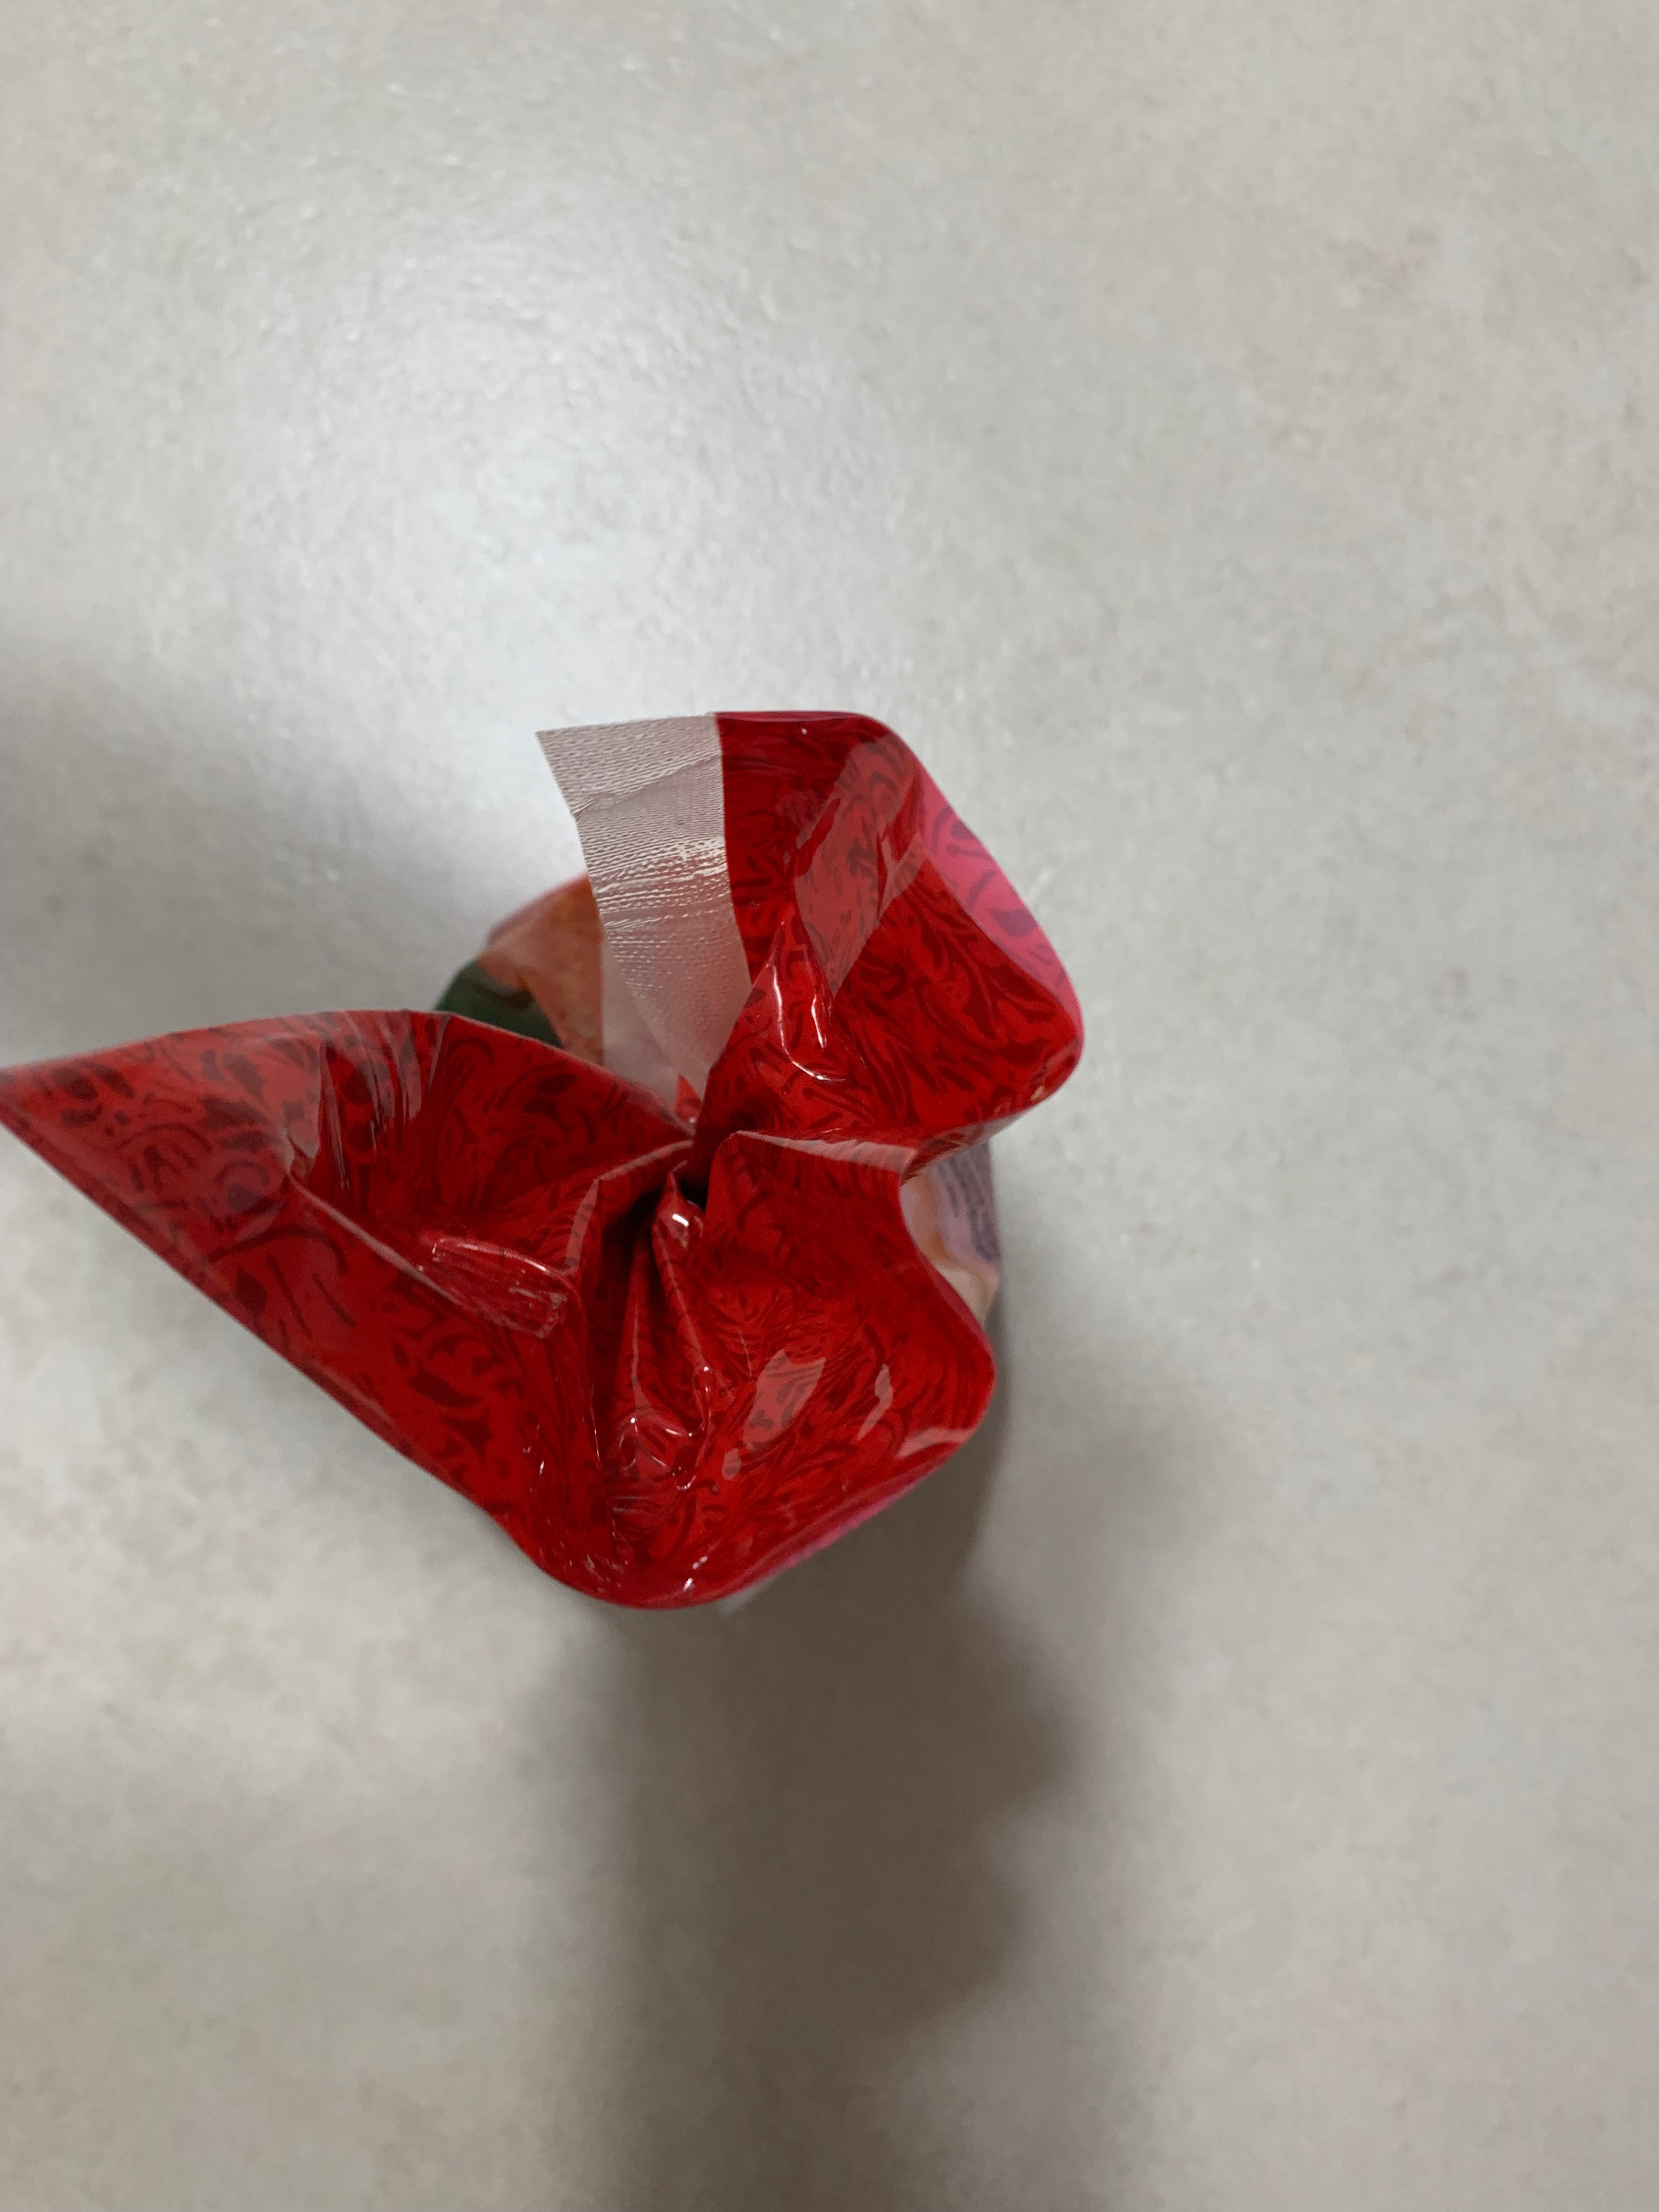kimchi: (23, 714, 1079, 1608)
